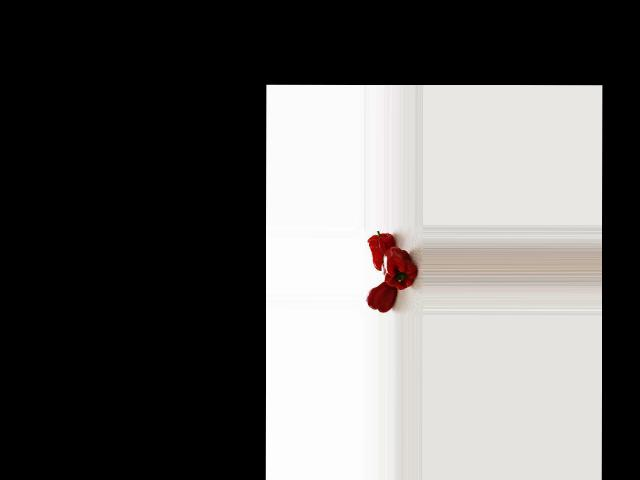bell_pepper: (366, 283, 398, 314)
